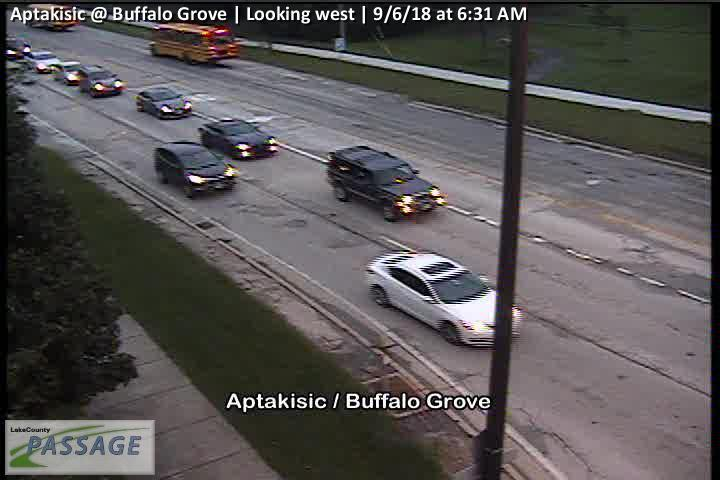Bus: (149, 21, 241, 63), (25, 4, 77, 32)
SUV: (327, 146, 443, 222), (79, 64, 124, 98), (7, 38, 32, 62)
Sedan: (365, 248, 521, 348), (154, 140, 242, 198), (199, 117, 281, 161), (135, 86, 192, 120), (23, 49, 61, 74), (53, 60, 83, 85)
